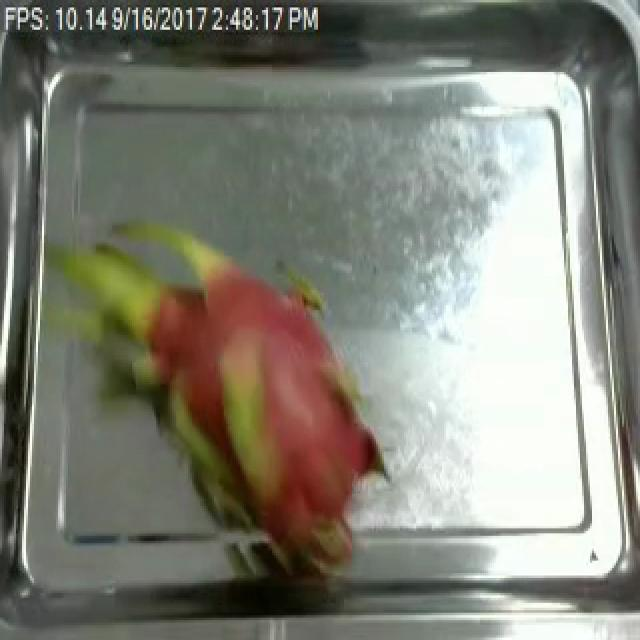fruit: (42, 191, 394, 603)
